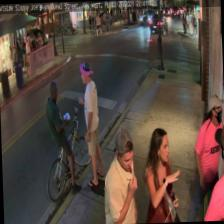person: (182, 93, 224, 221), (44, 80, 81, 190), (141, 128, 181, 222), (100, 128, 138, 224), (77, 62, 103, 187), (198, 121, 224, 219)
